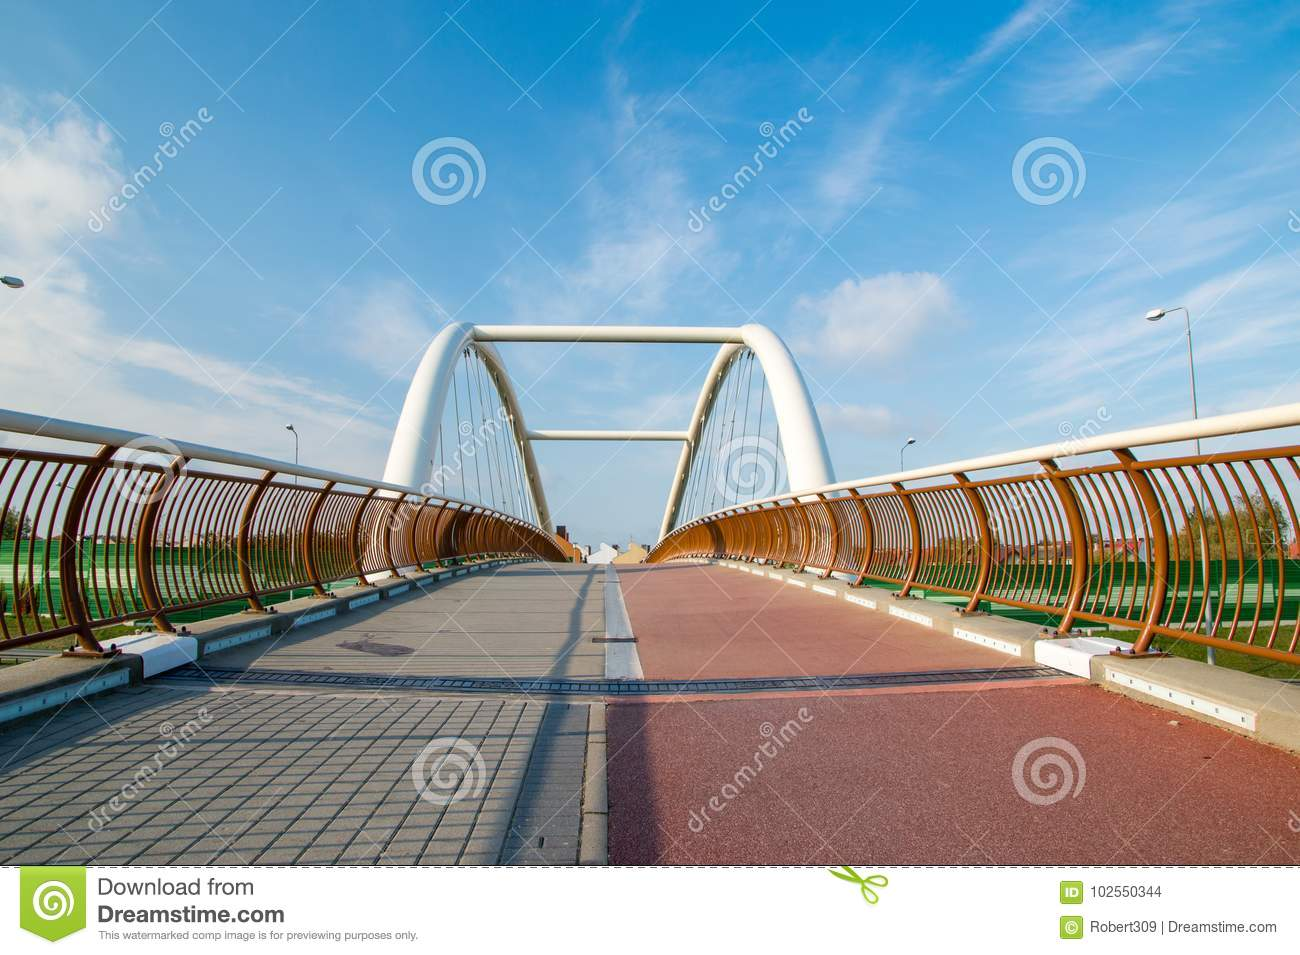bridge: (359, 314, 856, 563)
